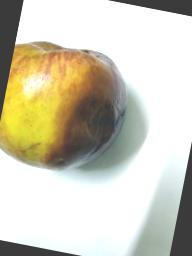Apple Rotten: (0, 34, 139, 181)
